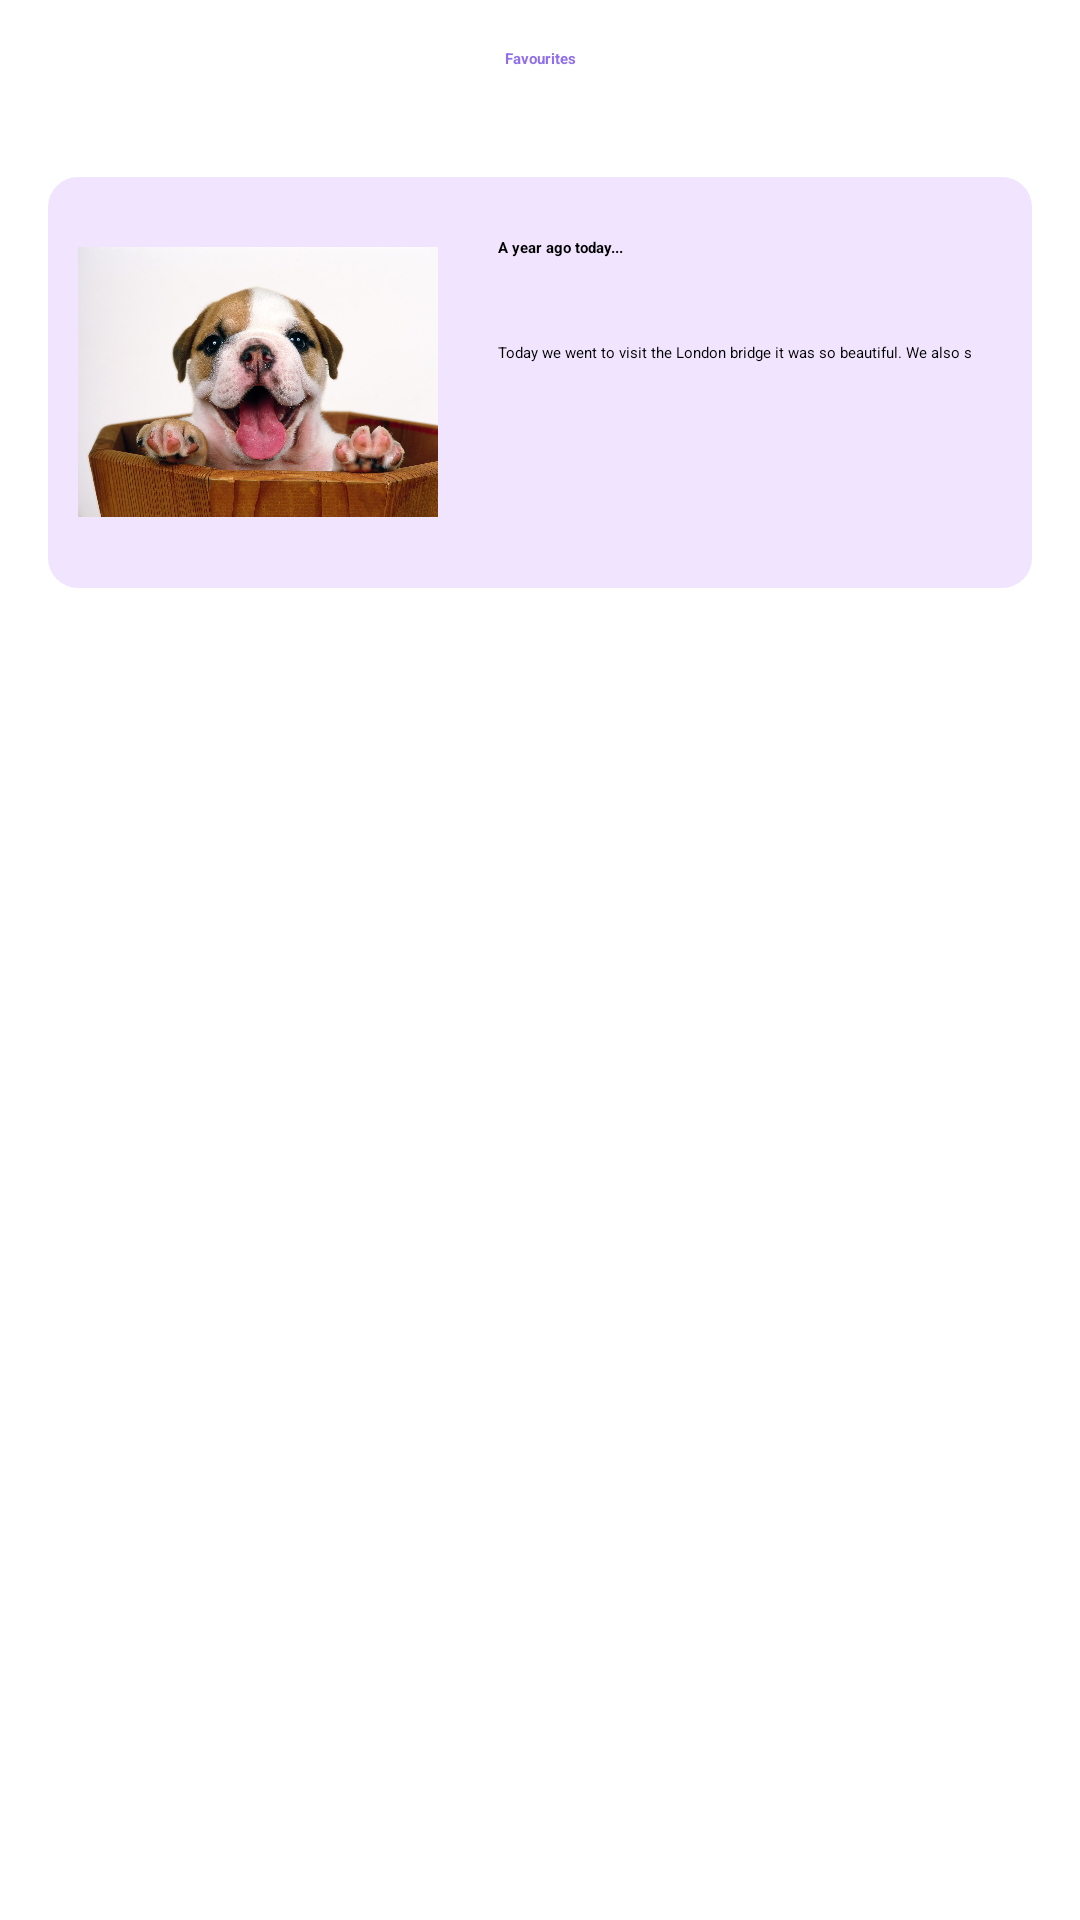

Named icons in this screenshot (1080w x 1920h) and their centers, (x=x, y=y):
photo: (x=258, y=401)
